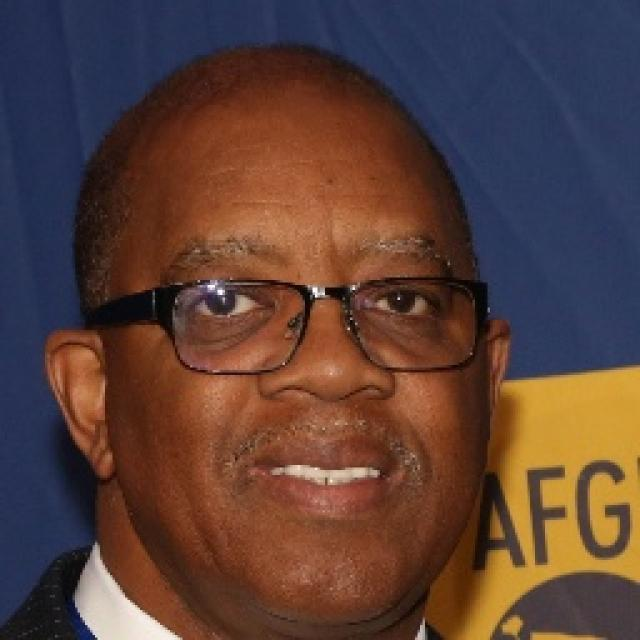earlobe: (81, 428, 118, 481)
eye: (188, 288, 269, 318), (368, 290, 436, 320)
nose: (262, 383, 395, 427)
wholeear: (43, 329, 117, 481), (482, 318, 511, 427)
